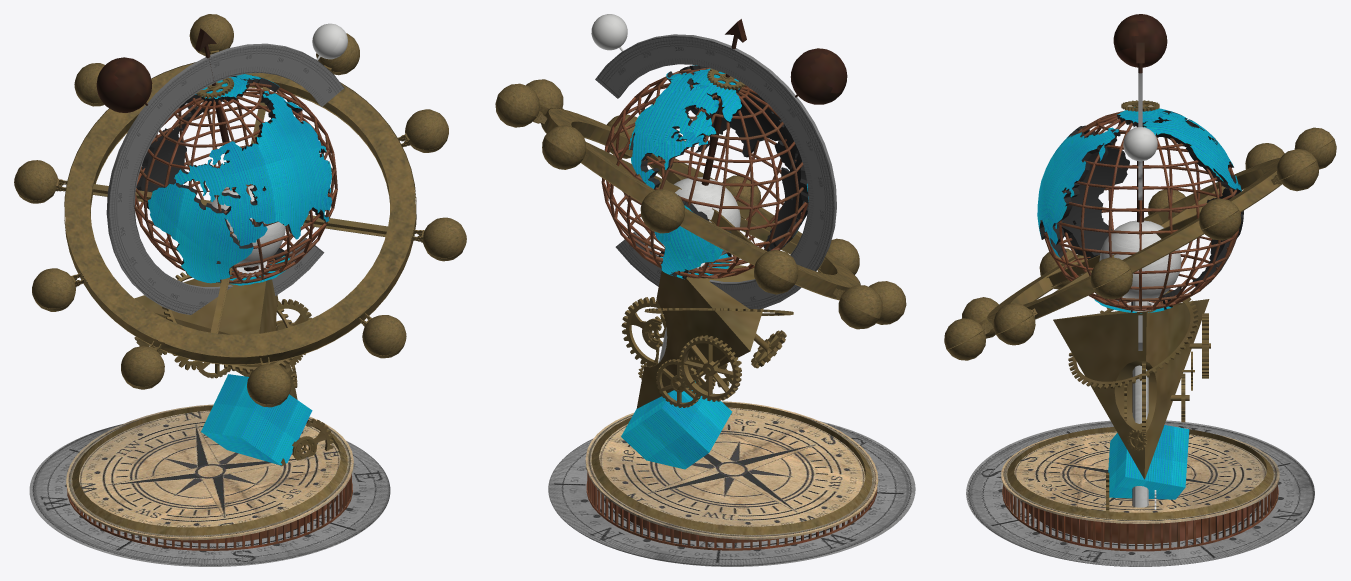
Rendered from 210217_02_SVO_3D_AOA_ONE_MESH 1.glb.
3 views of the same model, side by side, from view 1: azimuth 30°, elevation 25°; view 2: azimuth 150°, elevation 25°; view 3: azimuth 270°, elevation 25° (orthographic). The views are drawn at different scales.
Size of the model in its own units: 10.3 by 11.94 by 9.5.
Materials: 21 (20 with a texture image).
